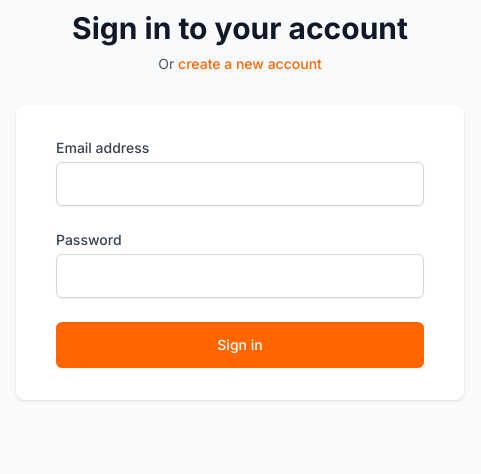
it: Login Page › Form Validation › should show error when email is empty
The width and height of the screenshot is (481, 474).
Click the button "Sign in".
click(240, 345)  # box [56,322,424,368]
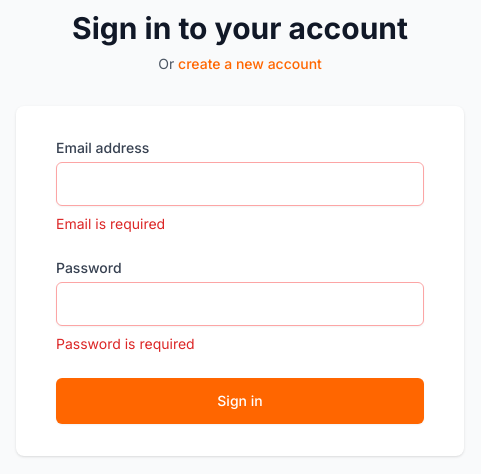
Expected: the text "Email is required" is shown, [56,215,165,232]
